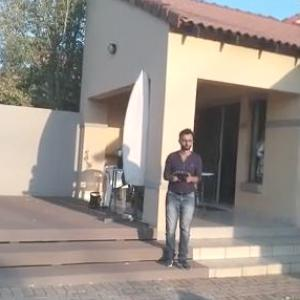follow: (157, 124, 207, 274)
